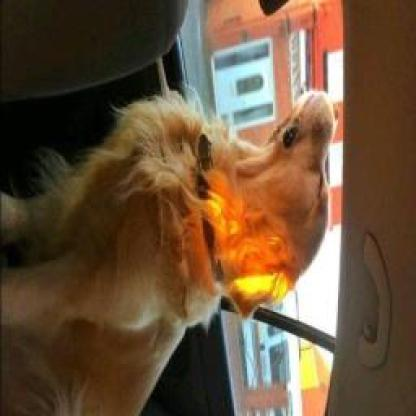dog: (0, 85, 340, 414)
